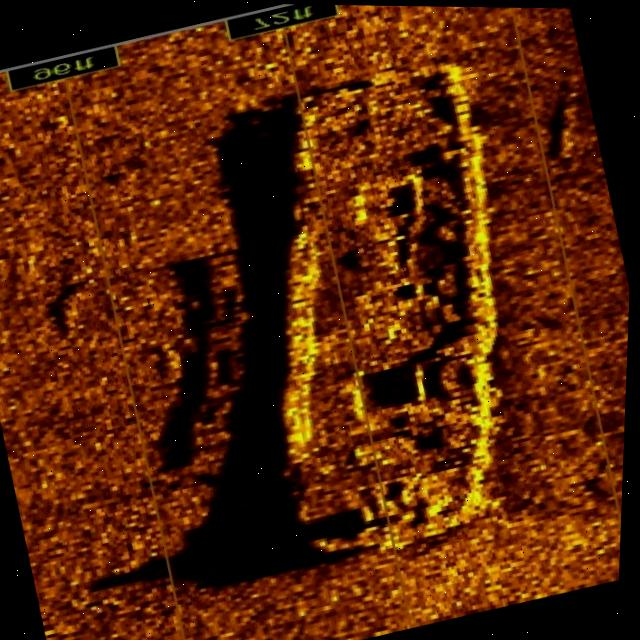shipwreck: (191, 47, 593, 576)
